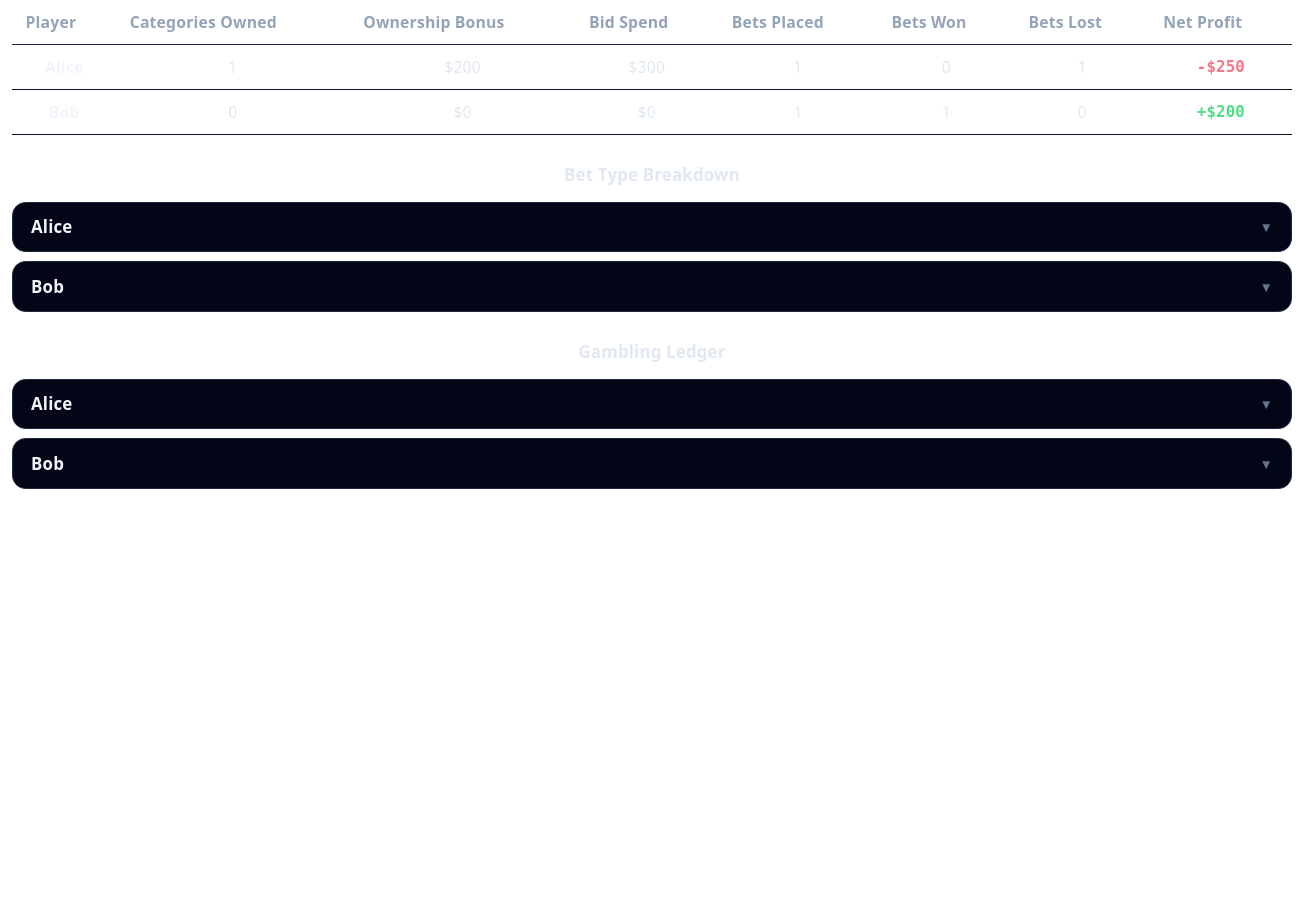
Test: GamblingAnalytics › renders correctly with populated ledger › renders human-readable detail text for bet and category entries
The width and height of the screenshot is (1304, 900).
Click the button "Bob ▼" below "Gambling Ledger": (47, 463) [13,439,1291,488]
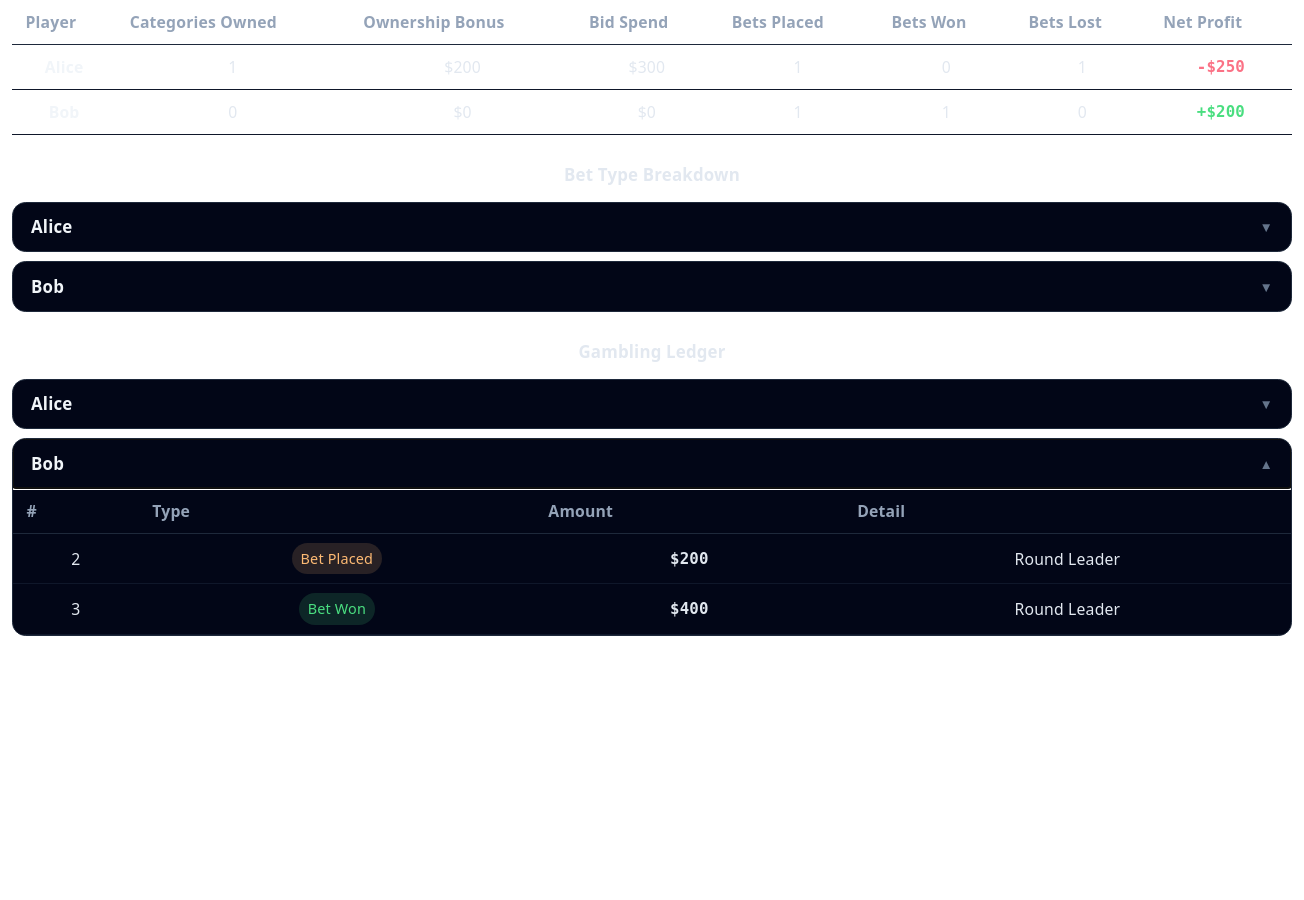
Check: the text "Round Leader" is shown 2 times, box [844,533,1291,584]; [844,584,1291,634]
Click the button "Alice ▼" below "Gambling Ledger": (52, 403) [13,380,1291,428]
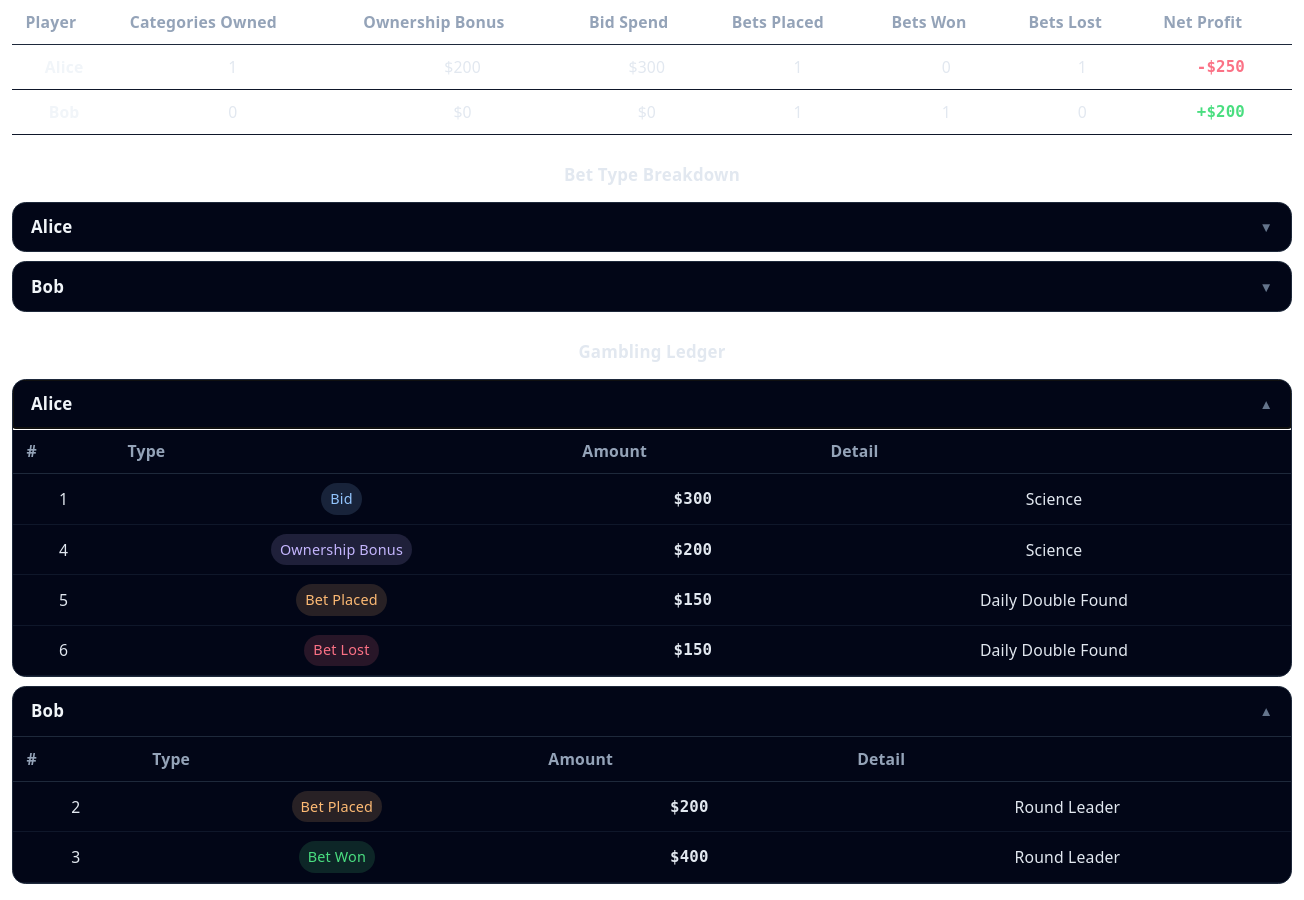
Check: the text "Science" is shown 2 times, box [817,474,1291,524]; [817,524,1291,575]
Check: the text "Daily Double Found" is shown 2 times, box [817,575,1291,625]; [817,625,1291,676]
